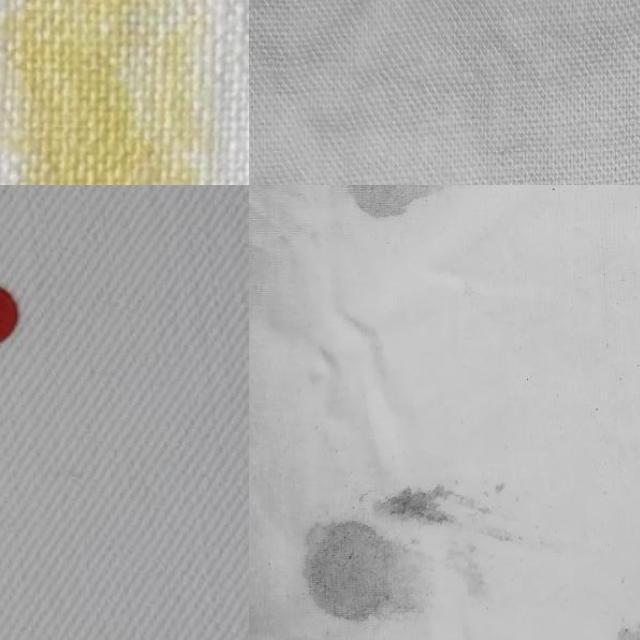Thread_other: (269, 451, 533, 640), (315, 185, 499, 242)
